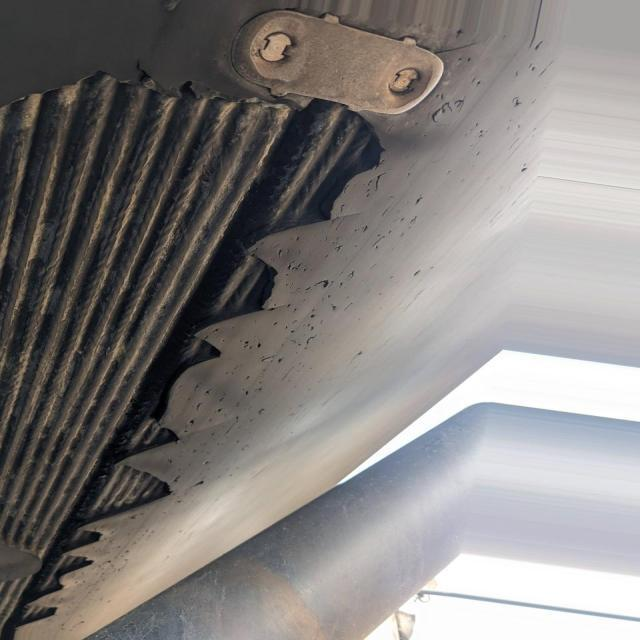Tear: (0, 56, 393, 640)
